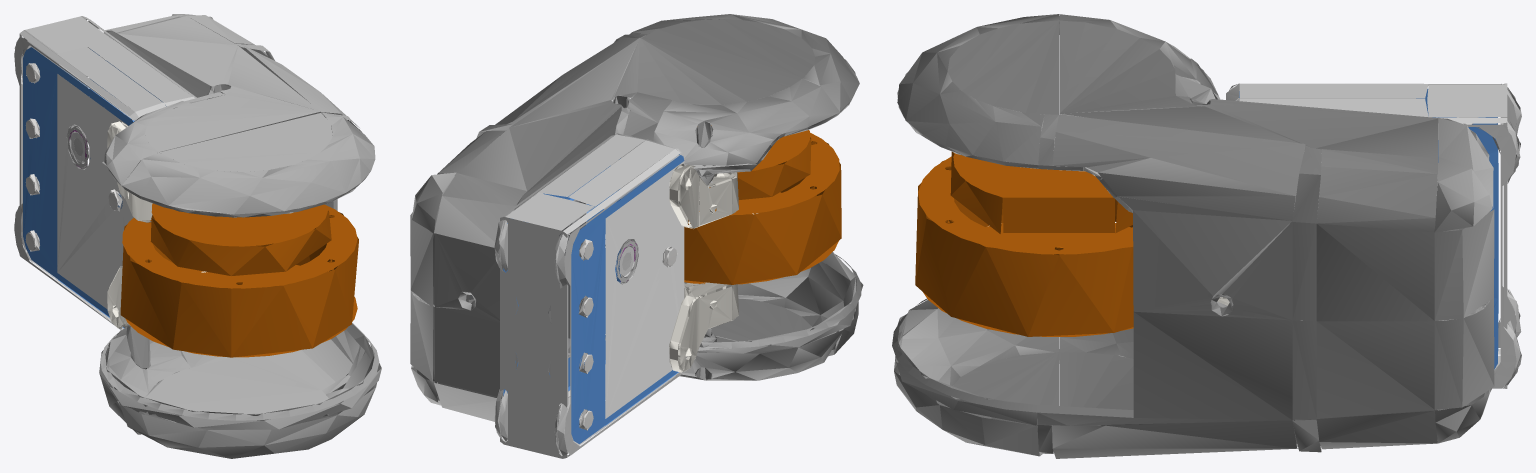
The model's file is sakePalm.fbx.
3 renders of one model, left to right at view 1: azimuth 30°, elevation 25°; view 2: azimuth 150°, elevation 25°; view 3: azimuth 270°, elevation 25°, orthographic. The views are drawn at different scales.
Visible parts, largest first — view 1: mesh99; view 2: mesh99; view 3: mesh99.
Boxes of the visible parts, bbox=[...] form: mesh99: bbox=[14, 14, 381, 458]; mesh99: bbox=[410, 14, 863, 458]; mesh99: bbox=[892, 14, 1521, 458].
Size of the model in its own units: 0.1006 by 0.1011 by 0.1694.
